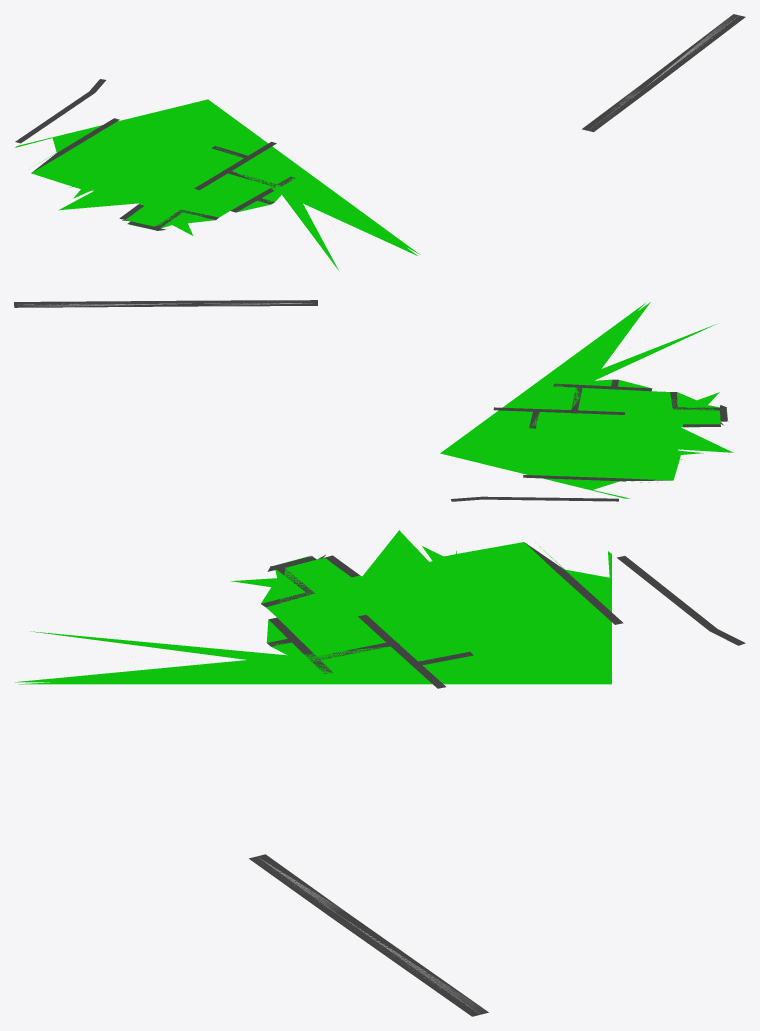
3 views of the same model, one above another, from view 1: azimuth 30°, elevation 25°; view 2: azimuth 150°, elevation 25°; view 3: azimuth 270°, elevation 25° (orthographic). The views are drawn at different scales.
Bounding box in the file's own units: 413 × 0 × 262.
